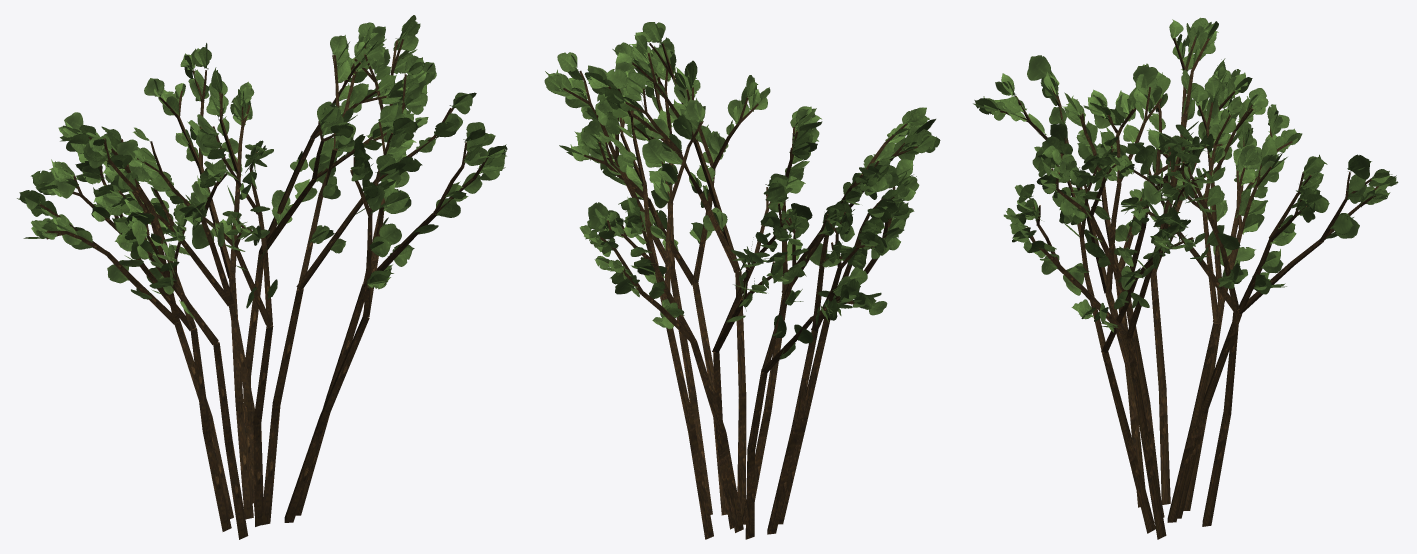
The model's file is hazel_coppice_v01_LOD1.fbx.
The picture shows the model from 3 angles, left to right: view 1: azimuth 30°, elevation 25°; view 2: azimuth 150°, elevation 25°; view 3: azimuth 270°, elevation 25°; orthographic projection. The views are drawn at different scales.
Visible parts, largest first — view 1: hazel_coppice_v01_LOD1; view 2: hazel_coppice_v01_LOD1; view 3: hazel_coppice_v01_LOD1.
Part boxes in pixels (<box>): hazel_coppice_v01_LOD1: <box>17,15,507,539</box>; hazel_coppice_v01_LOD1: <box>544,22,940,539</box>; hazel_coppice_v01_LOD1: <box>973,17,1398,539</box>.
Size of the model in its own units: 258 by 303 by 261.
2 materials, 2 textured.
